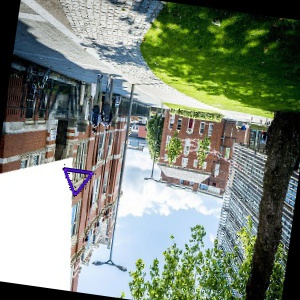triangle: (61, 164, 97, 198)
